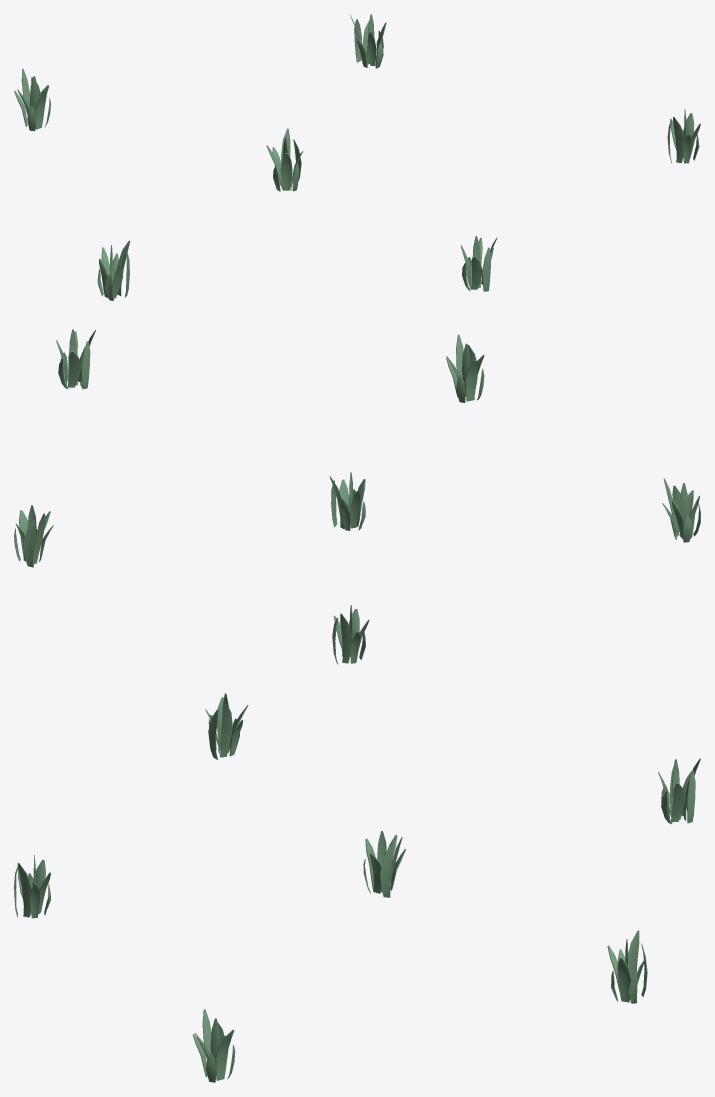
The model's file is a_z3_grass_l_many.fbx.
3 views of the same model, one above another, from view 1: azimuth 30°, elevation 25°; view 2: azimuth 150°, elevation 25°; view 3: azimuth 270°, elevation 25° (orthographic). The views are drawn at different scales.
Visible parts, largest first — view 1: a_z3_grass_l_many; view 2: a_z3_grass_l_many; view 3: a_z3_grass_l_many.
Boxes of the visible parts, x1,y1,x2,y2 form: a_z3_grass_l_many: (14, 14, 700, 300); a_z3_grass_l_many: (14, 329, 700, 664); a_z3_grass_l_many: (14, 693, 700, 1082).
Bounding box in the file's own units: 1244 × 102 × 1064.
